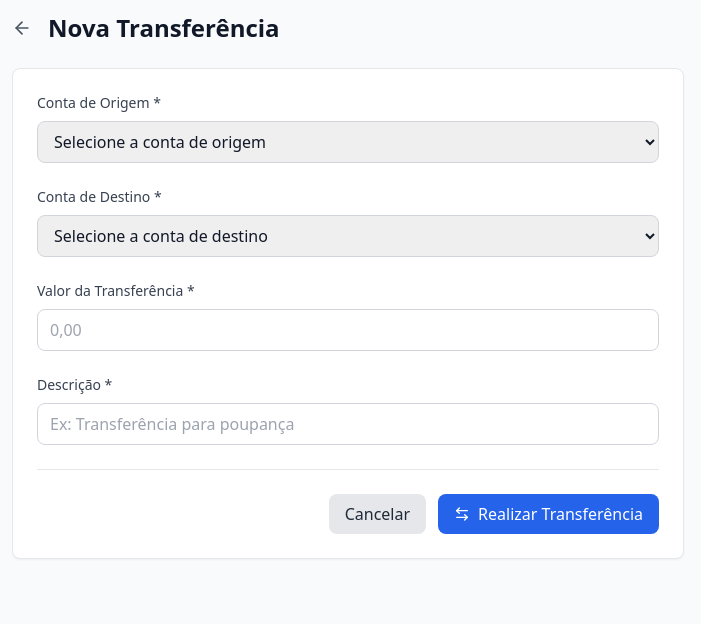
it: TransferForm › deve mostrar aviso de saldo insuficiente
Seleciona conta de origem
Select "Conta Corrente (Corrente) - R$ 5.000,00" in the dropdown labelled "Conta de Origem *" at {"x": 348, "y": 142}, box [37,121,659,163]
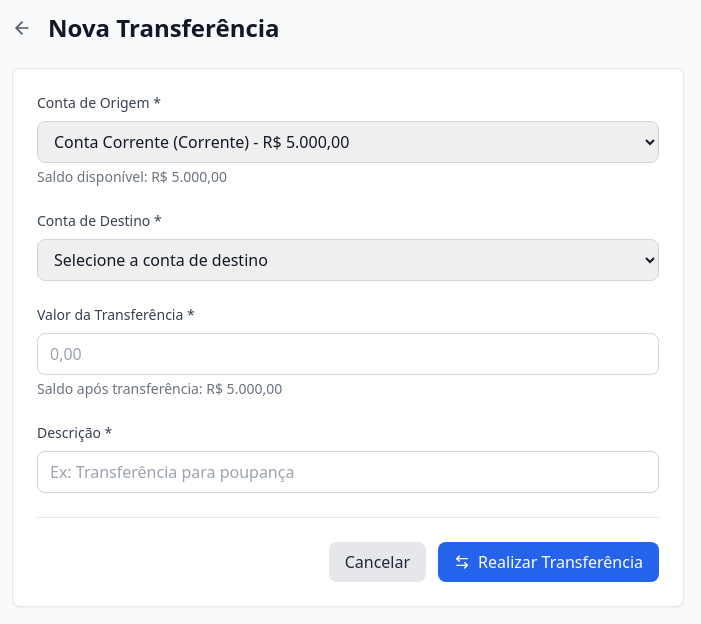
Insere valor maior que o saldo
Type "6000" into the field labelled "Valor da Transferência *".
click(348, 354); type("6000")  # box [37,333,659,375]
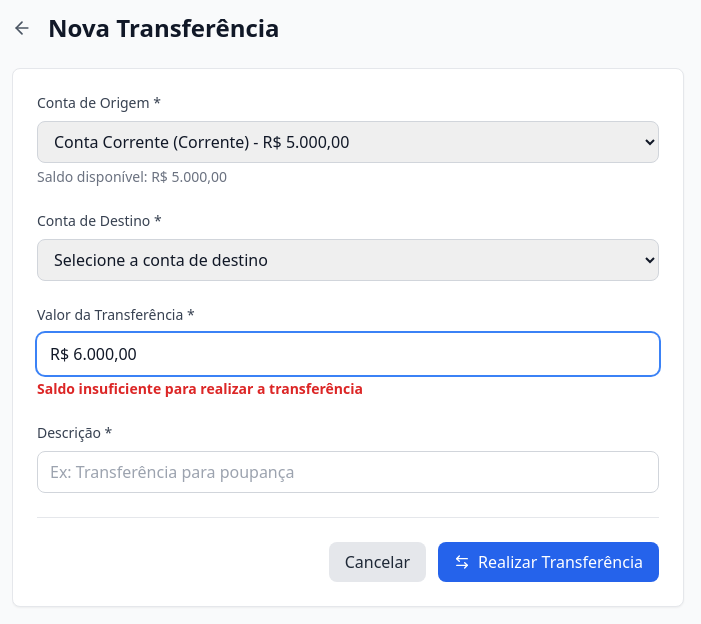
Expected: the text "Saldo insuficiente para realizar a transferência" is shown, [37,379,363,398]
